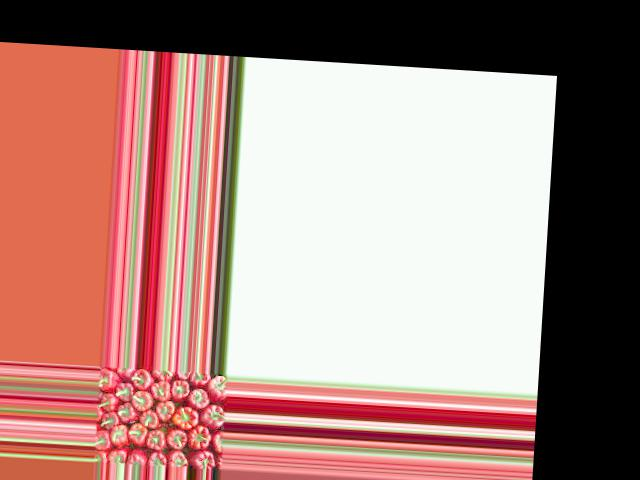bell_pepper: (99, 368, 120, 389)
